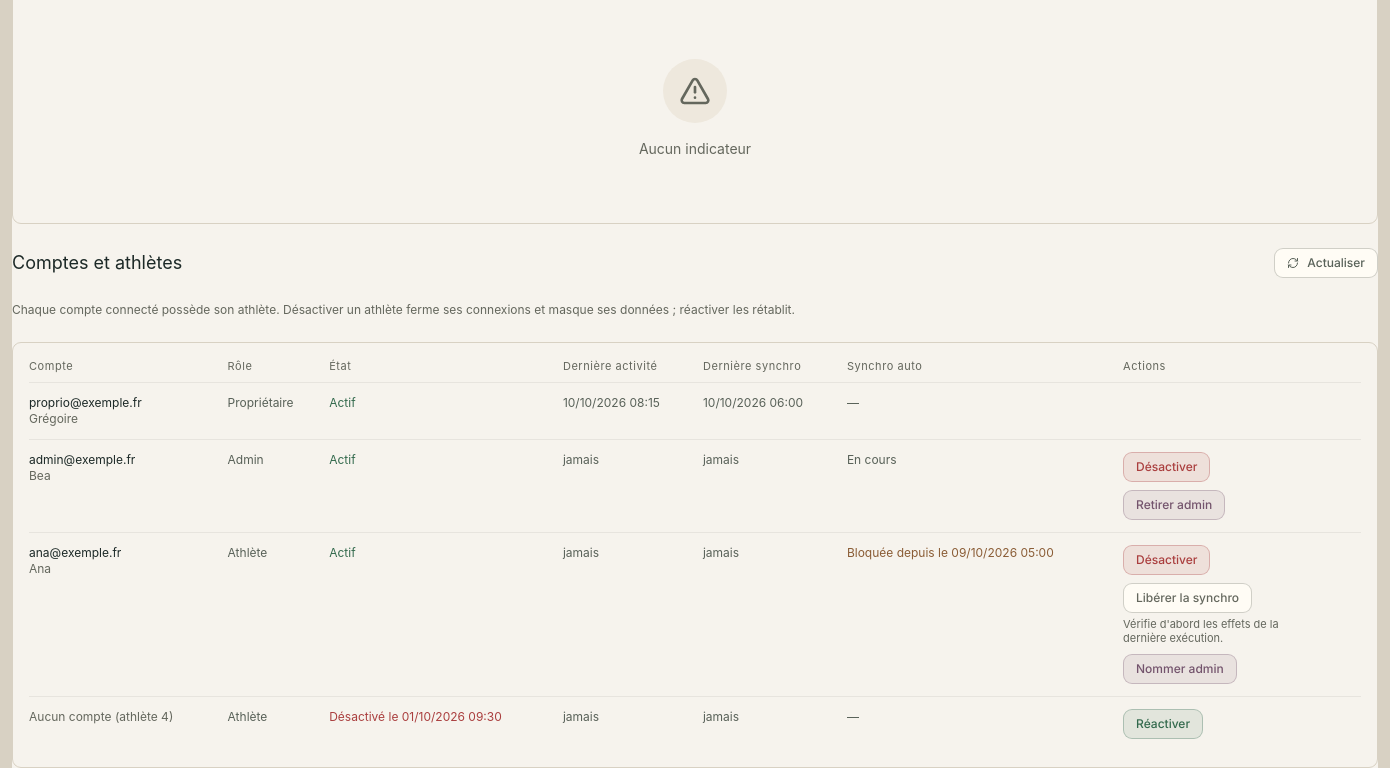
Scenario: deactivates and reactivates an athlete and refreshes the list
(page scrolled)
What coordinates should you click on to do the following:
click the button "Désactiver" in the row of "ana@exemple.fr"
I would click on:
 (1167, 560)
Its box is [1123,545,1210,575].
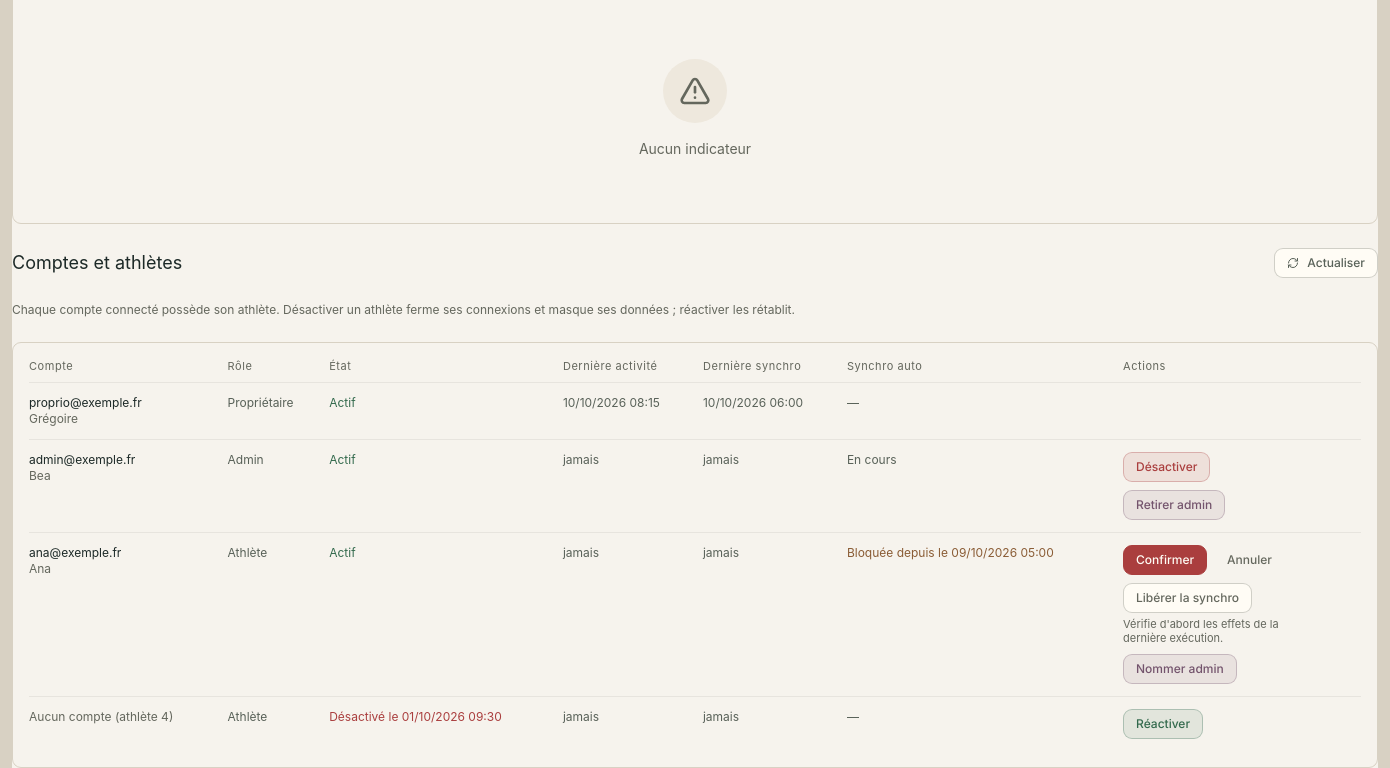
What coordinates should you click on to do the following:
click the button "Annuler"
I would click on:
 (1250, 560)
Its box is [1215,545,1284,575].
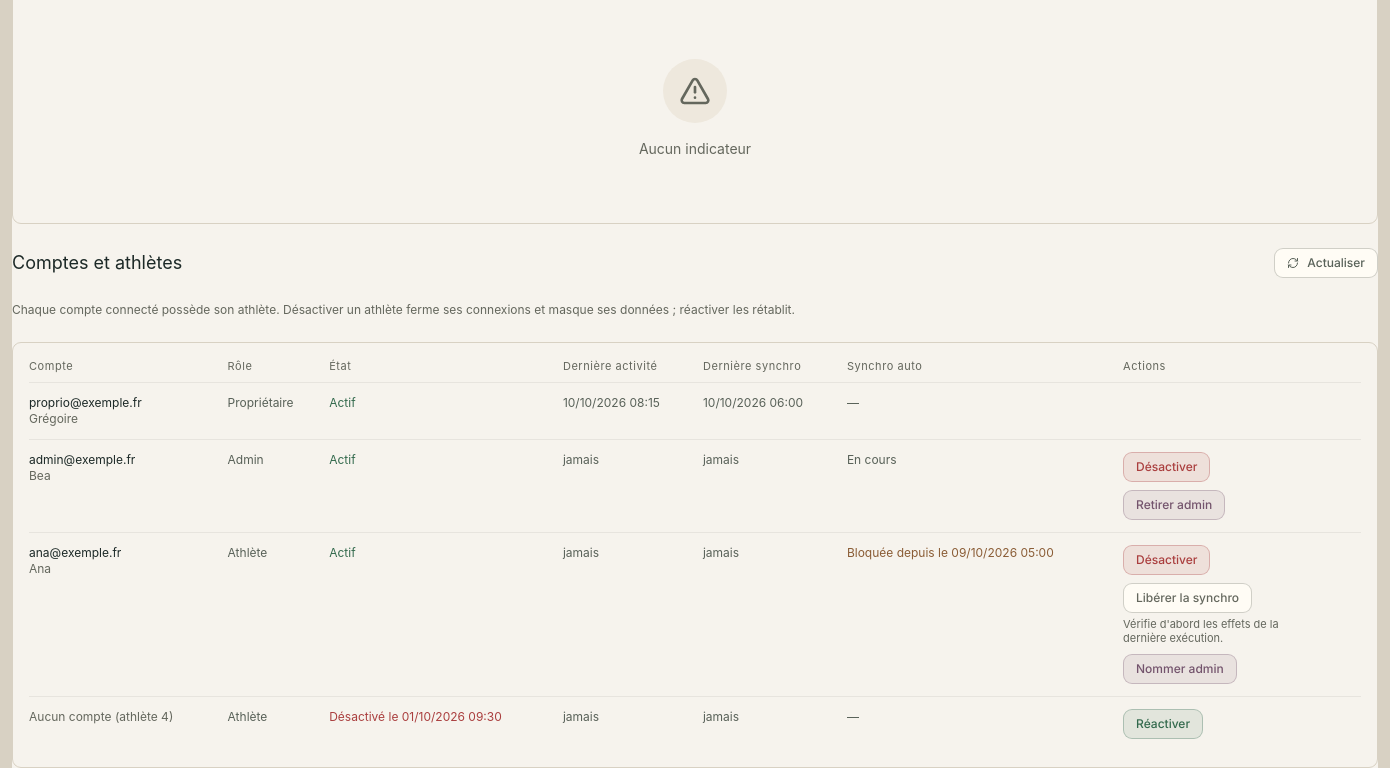
What coordinates should you click on to do the following:
click the button "Désactiver" in the row of "ana@exemple.fr"
I would click on:
 (1167, 560)
Its box is [1123,545,1210,575].
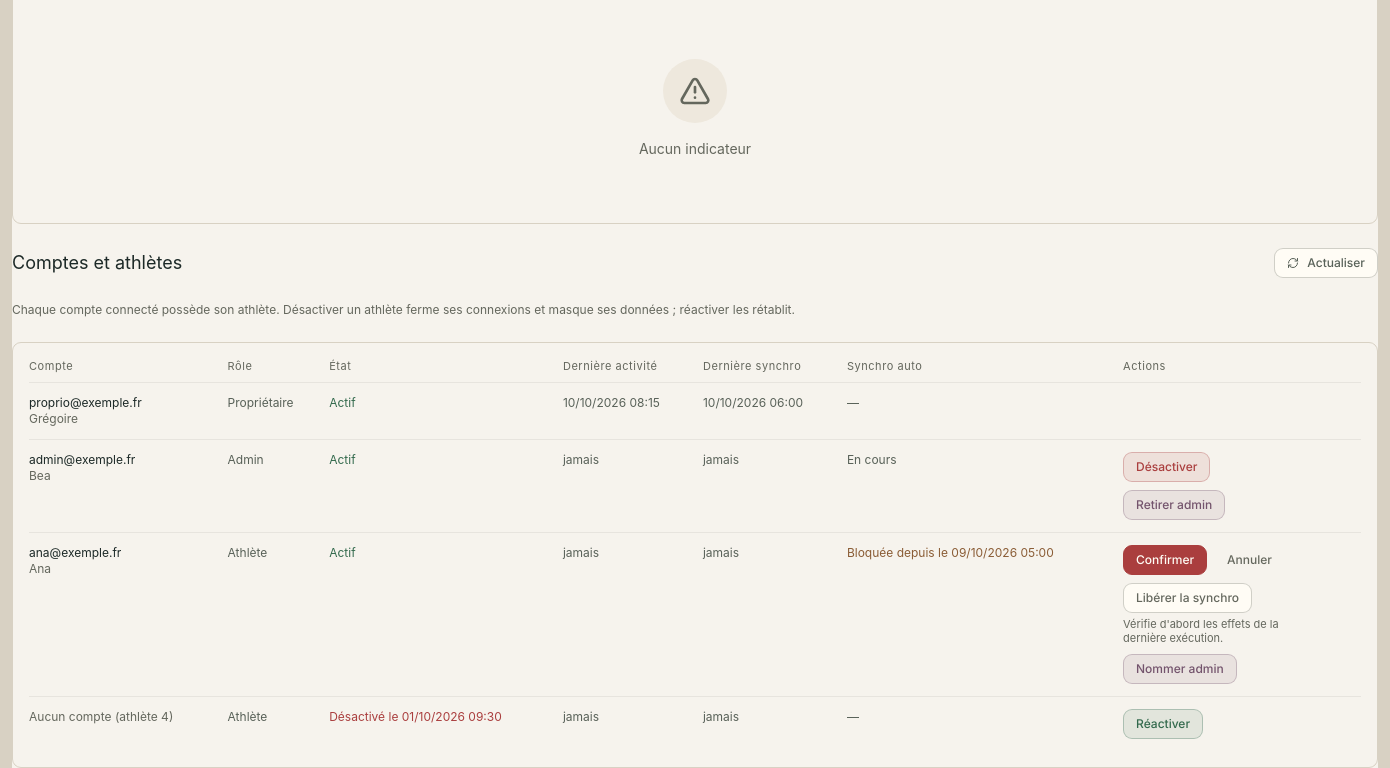
What coordinates should you click on to do the following:
click the button "Confirmer"
I would click on:
 (1165, 560)
Its box is [1123,545,1207,575].
(page scrolled)
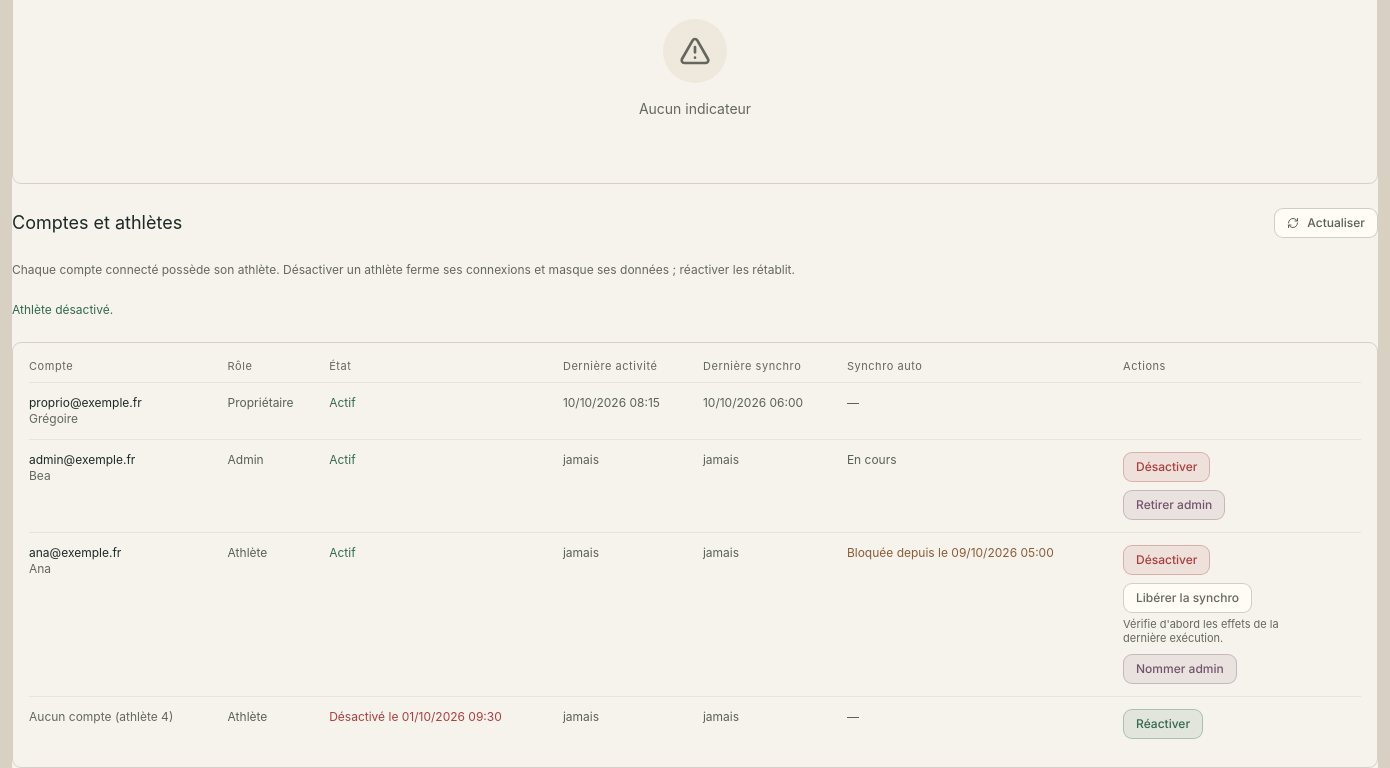
Expected: the message reads "Athlète désactivé.", [12,302,113,317]
What coordinates should you click on to do the following:
click the button "Réactiver"
I would click on:
 (1163, 724)
Its box is [1123,709,1203,739].
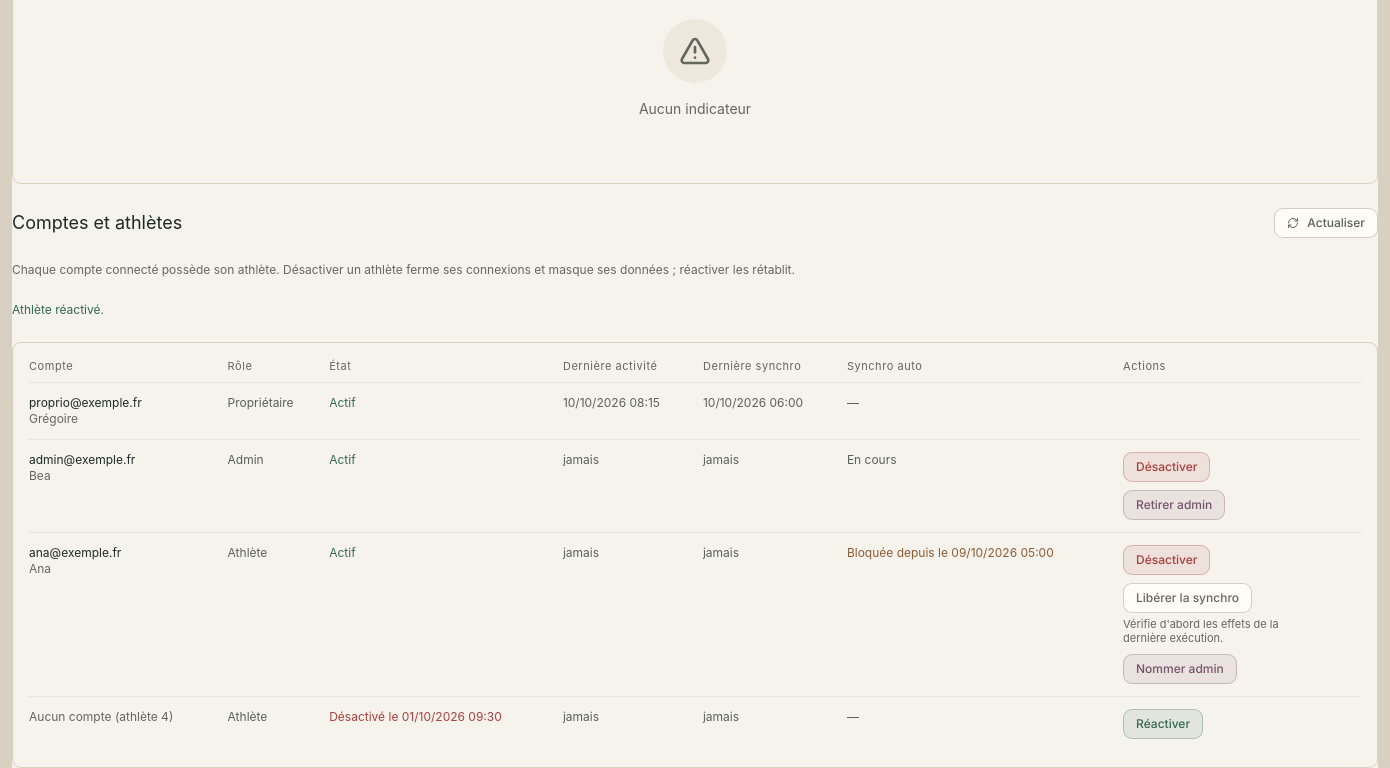
Expected: the message reads "Athlète réactivé.", [12,302,104,317]
